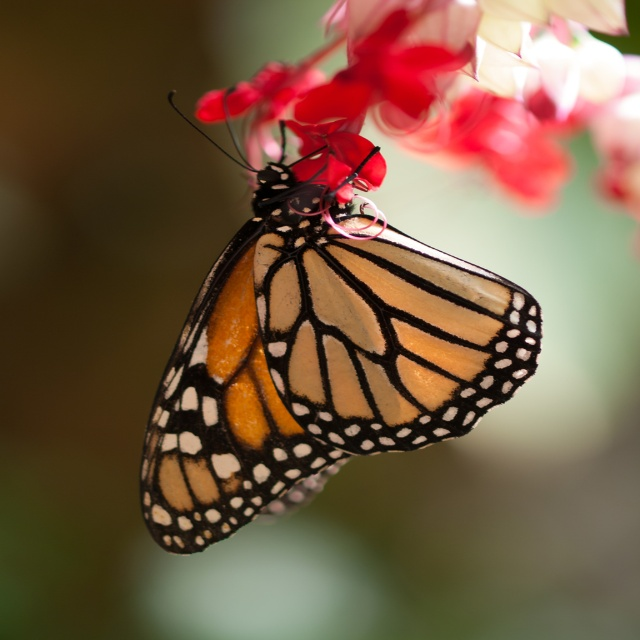Butterfly: (140, 83, 539, 556)
